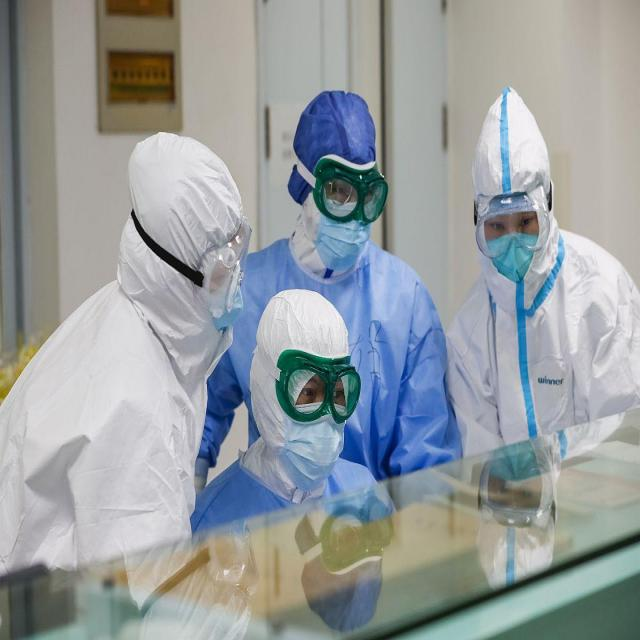Goggles: (274, 350, 362, 425), (314, 154, 389, 230), (473, 186, 552, 258), (193, 216, 251, 294)
